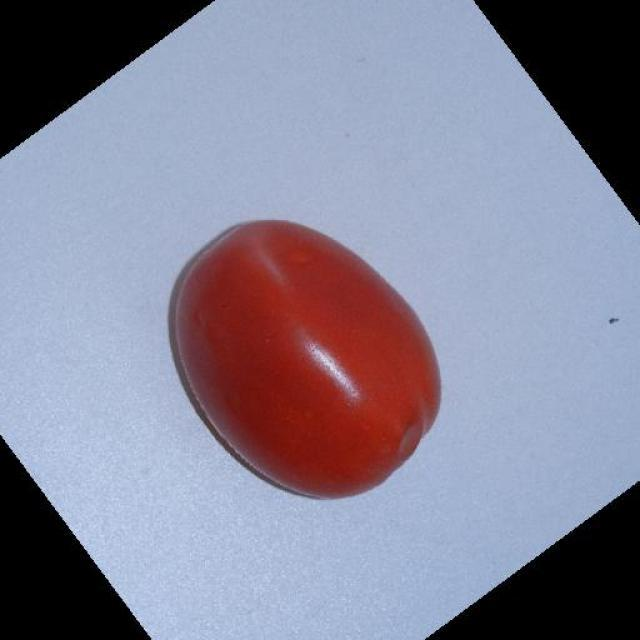Fresh Tomato: (158, 196, 456, 528)
